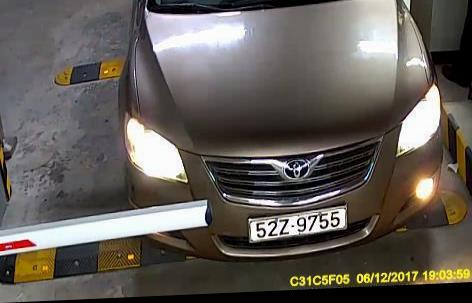License_Plate: (248, 207, 346, 242)
